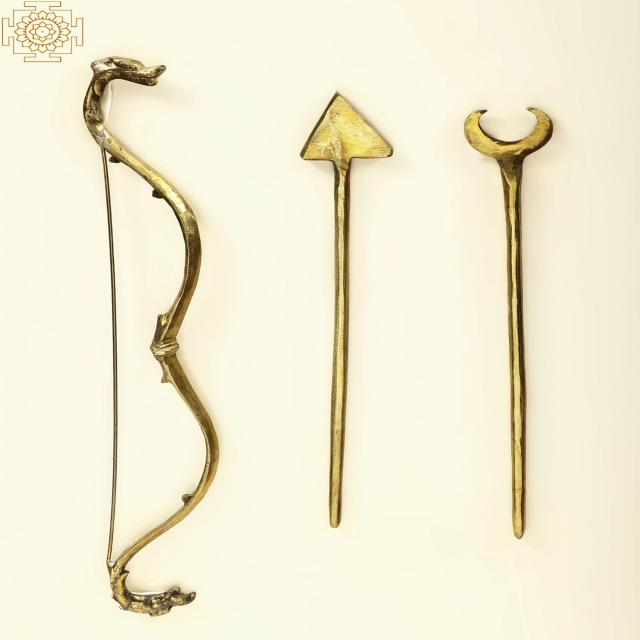X-Bow: (54, 40, 240, 621)
